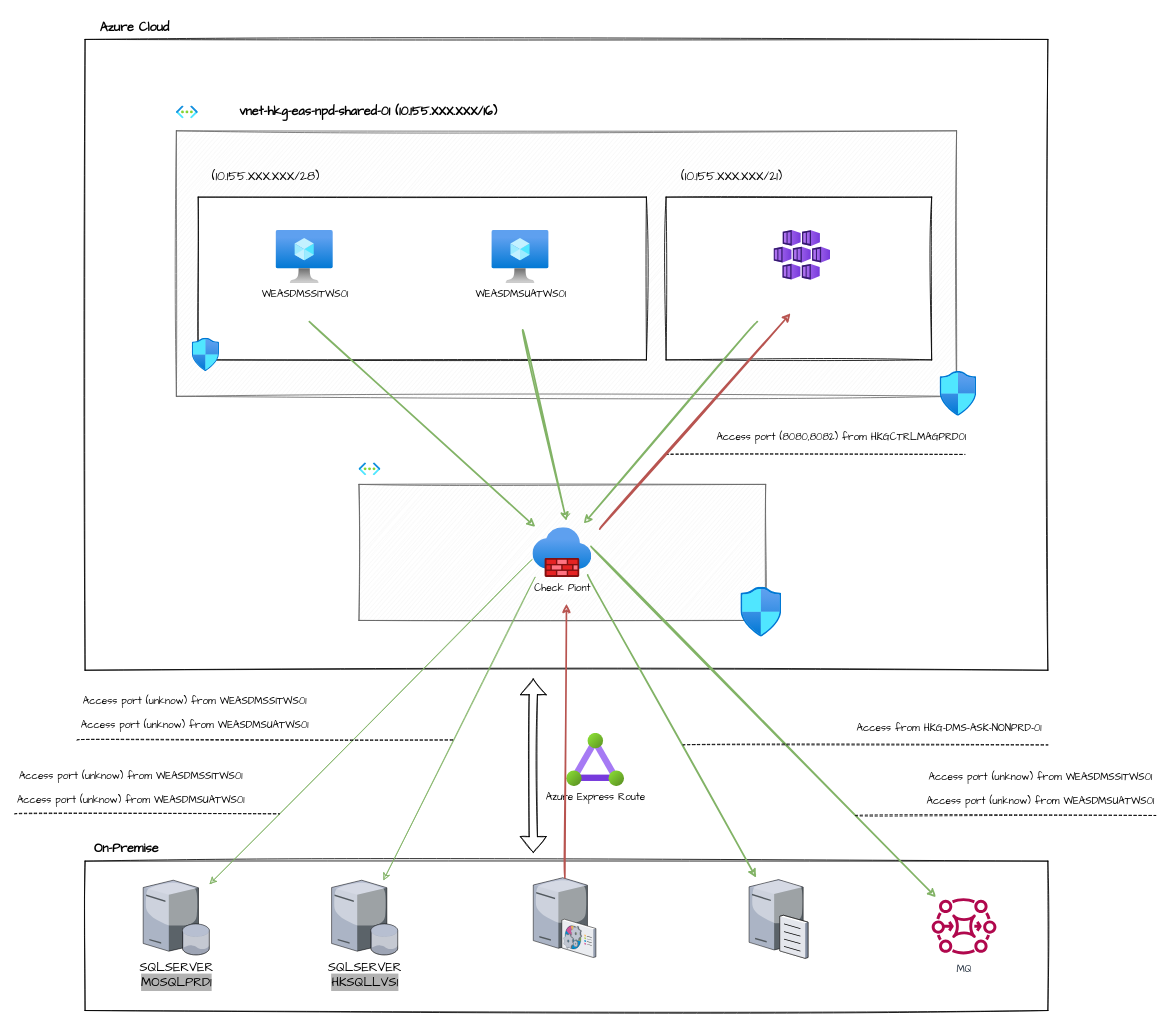
This 1171x1025 diagram has some shape labels left out. Here are the shapes that lost their labels. From the top down, the box of each, then its label:
(774, 230, 830, 280): HKG-DMS-AKS-NONPRD-01
(533, 877, 596, 957): Control-M HKGCTRLMAGPRD01
(749, 877, 808, 958): SMB Mounting Folder \\eaant2\ProdApps\AIDS
